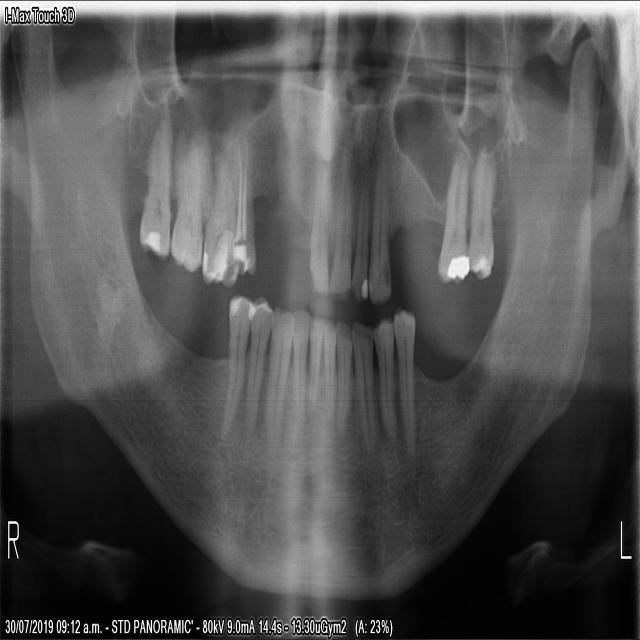LCU: (368, 126, 396, 308)
LID: (333, 313, 353, 438), (322, 313, 337, 432)
LIU: (349, 118, 372, 310), (331, 108, 354, 299)
LMU: (436, 127, 472, 291), (467, 130, 497, 283)
LPMD: (372, 316, 398, 446)
RCD: (263, 301, 295, 454), (353, 315, 378, 462)
RID: (291, 301, 312, 427), (305, 310, 323, 422)
RIU: (301, 103, 330, 309)
RMU: (197, 121, 239, 293), (169, 115, 205, 282), (138, 108, 172, 266)
RPMD: (220, 293, 252, 435), (240, 294, 272, 429), (393, 307, 418, 458)
RPMU: (231, 126, 258, 277)
